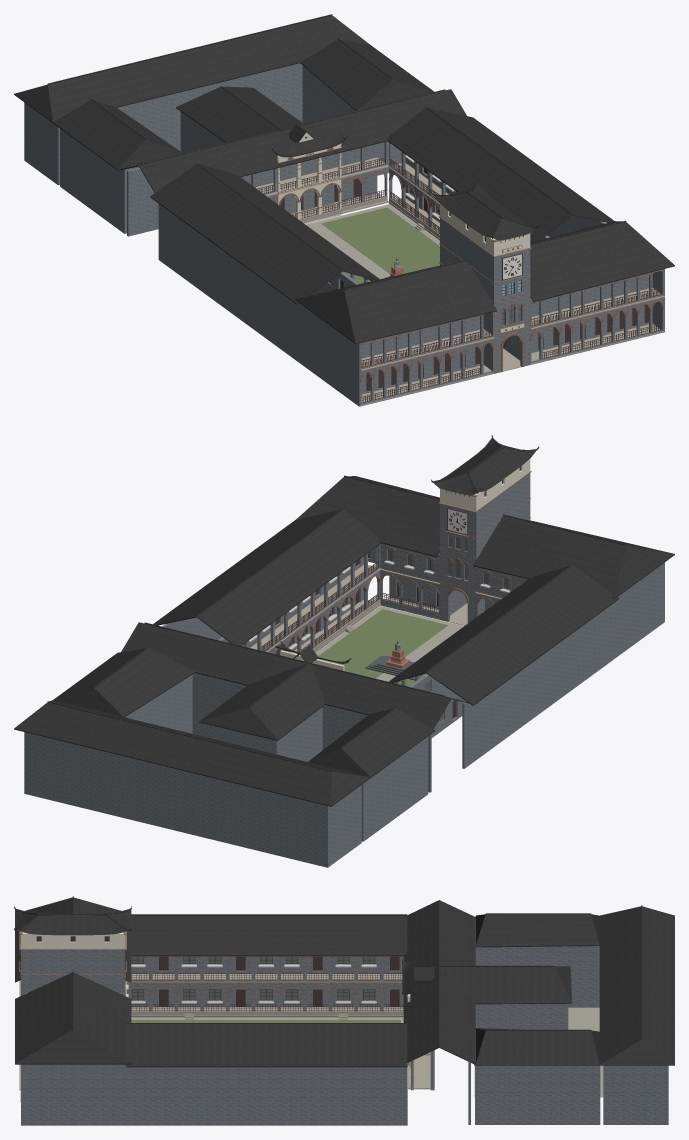
File: changning-st-johns-schereschewsky-hall-raw.glb
3 renders of one model, top to bottom at view 1: azimuth 30°, elevation 25°; view 2: azimuth 150°, elevation 25°; view 3: azimuth 270°, elevation 25°, orthographic. The views are drawn at different scales.
Visible parts, largest first — view 1: 圣约翰大学怀施堂（韬奋楼）南翼与钟楼; view 2: 圣约翰大学怀施堂（韬奋楼）南翼与钟楼; view 3: 圣约翰大学怀施堂（韬奋楼）南翼与钟楼.
Boxes of the visible parts, box(x1,y1,x2,y2) form: 圣约翰大学怀施堂（韬奋楼）南翼与钟楼: box(14, 14, 674, 406); 圣约翰大学怀施堂（韬奋楼）南翼与钟楼: box(14, 435, 674, 867); 圣约翰大学怀施堂（韬奋楼）南翼与钟楼: box(14, 896, 674, 1125).
Bounding box in the file's own units: 43.13 × 18.62 × 79.35.
Materials: 19 (4 with a texture image).
